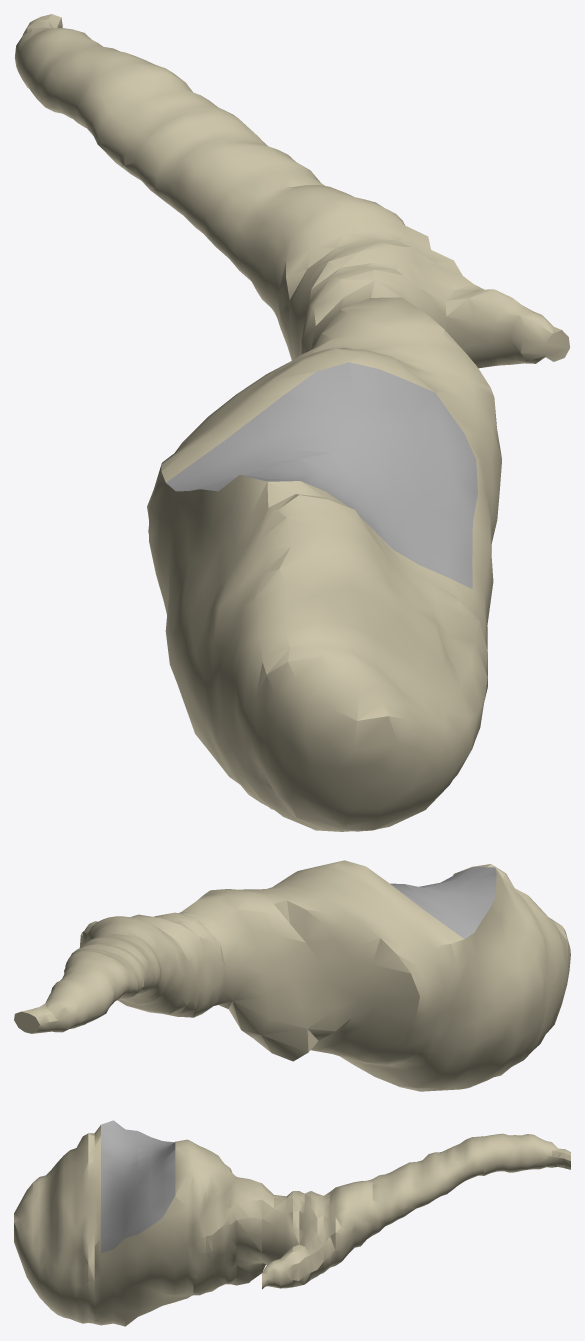
The model's file is malleus.obj.
3 views of the same model, one above another, from view 1: azimuth 30°, elevation 25°; view 2: azimuth 150°, elevation 25°; view 3: azimuth 270°, elevation 25° (orthographic). The views are drawn at different scales.
Parts seen in each view (by area): view 1: default; view 2: default; view 3: default.
Boxes of the visible parts, x1,y1,x2,y2 form: default: (14, 14, 569, 831); default: (14, 860, 570, 1091); default: (14, 1120, 570, 1326).
Size of the model in its own units: 3.93 by 3.03 by 7.05.
